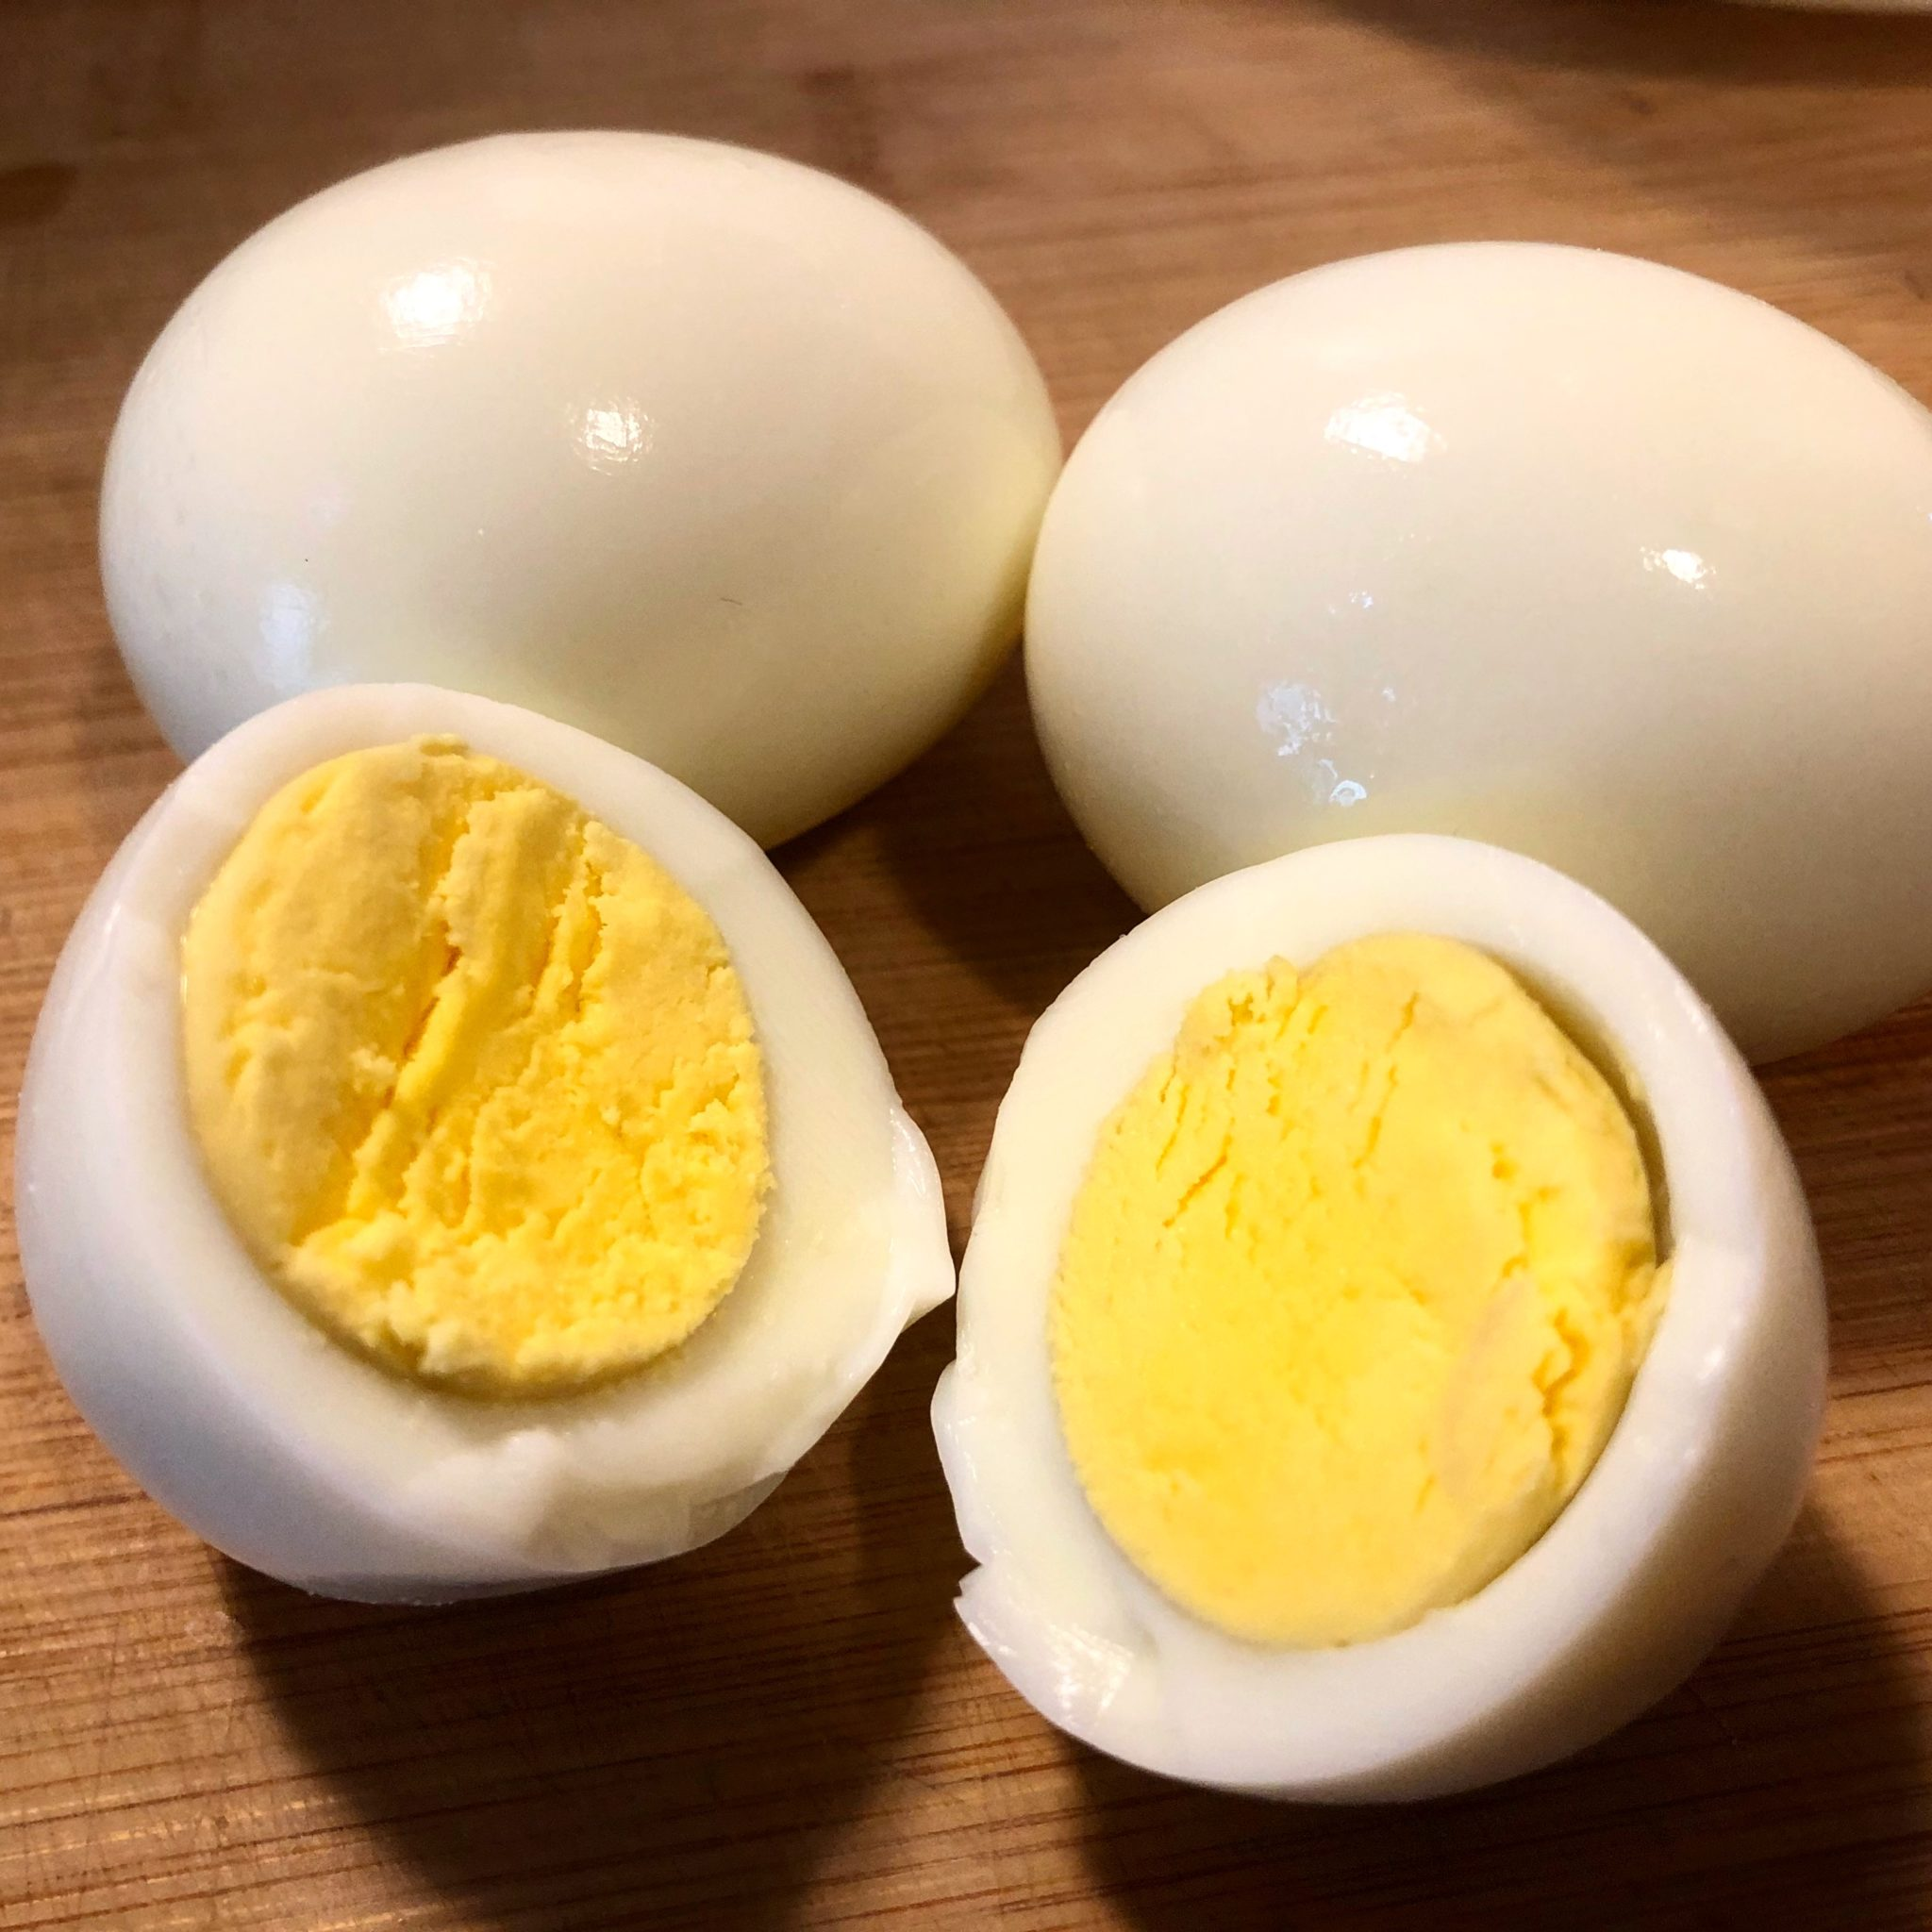egg: (938, 830, 1826, 1836), (32, 639, 920, 1645), (69, 101, 1161, 870), (993, 207, 1932, 985)
